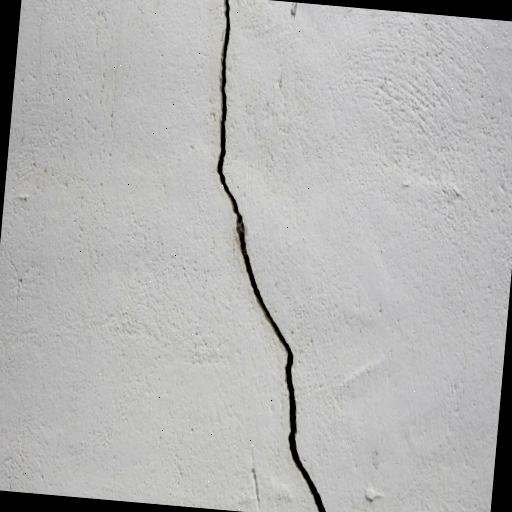spalling: (208, 0, 332, 512)
